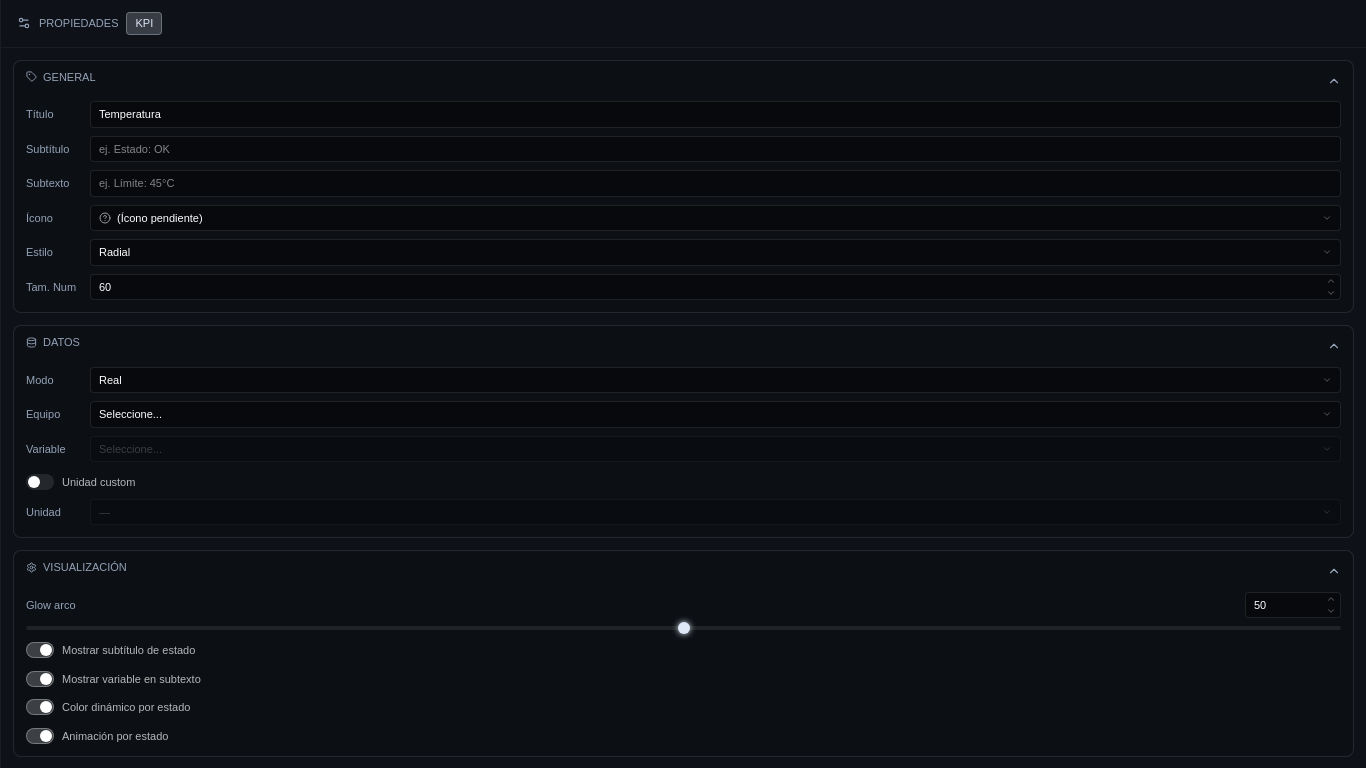
Test: PropertyDock Node-RED binding › shows variables from machine.variables when a machine is selected
The image size is (1366, 768).
Click the button "Seleccione..." next to "Equipo" at (130, 414), box [90,401,1341,428]
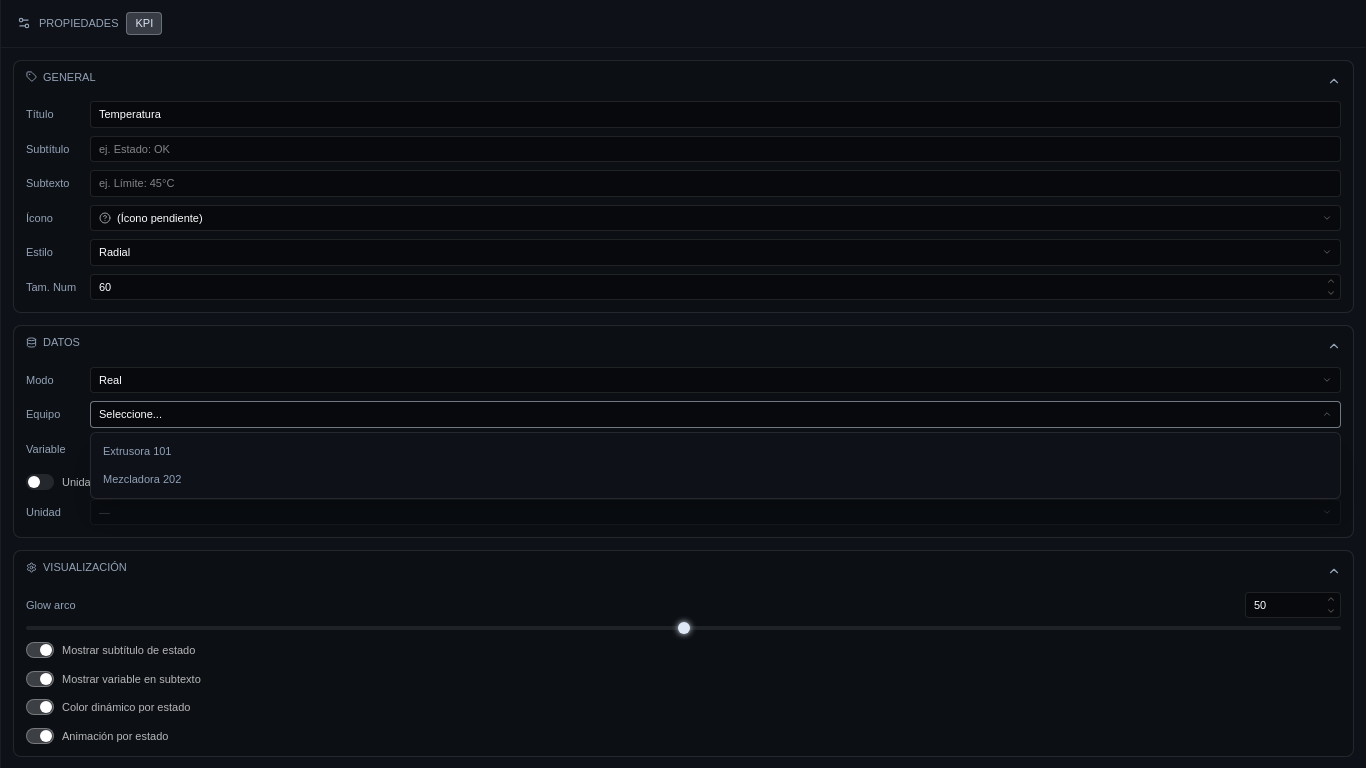
Click the button "Extrusora 101" at (137, 450), box [91,436,1340,465]
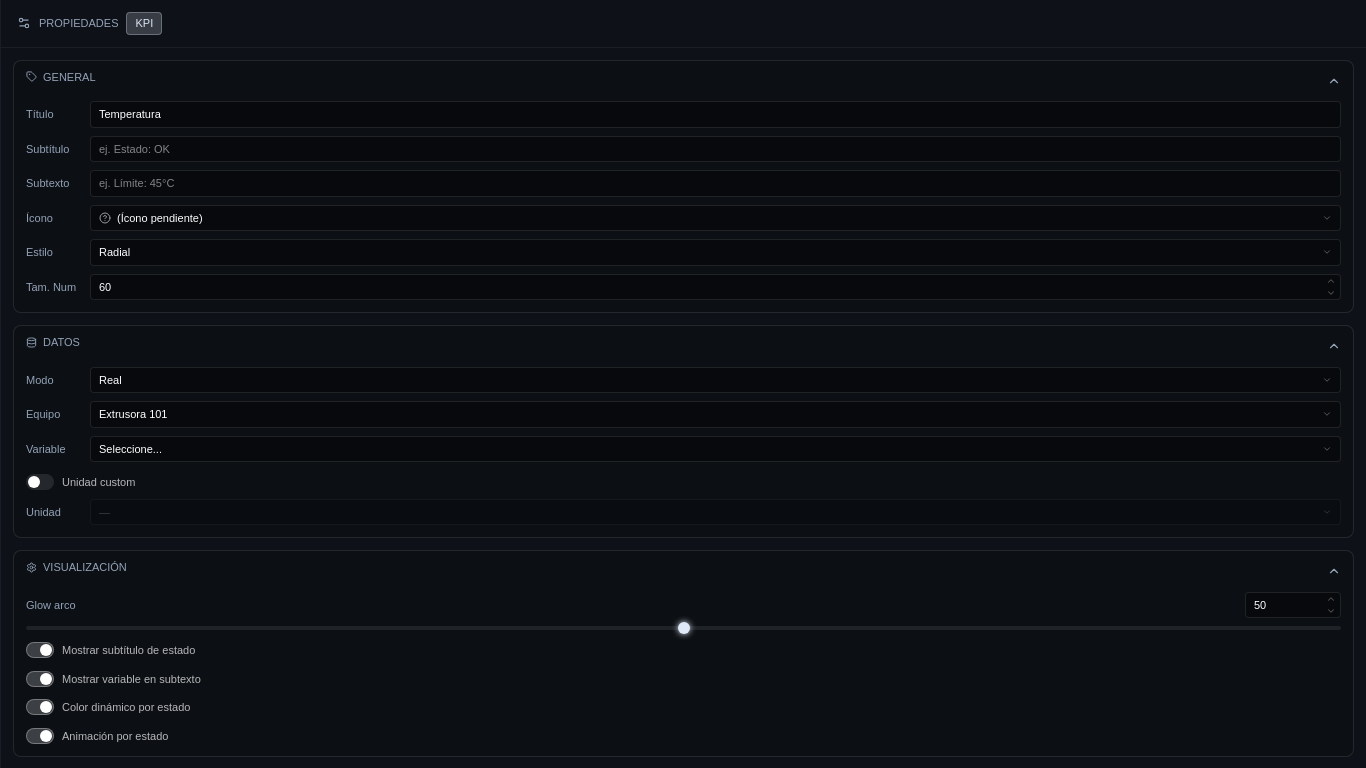
Click the button "Seleccione..." at (130, 448), box [90,436,1341,462]
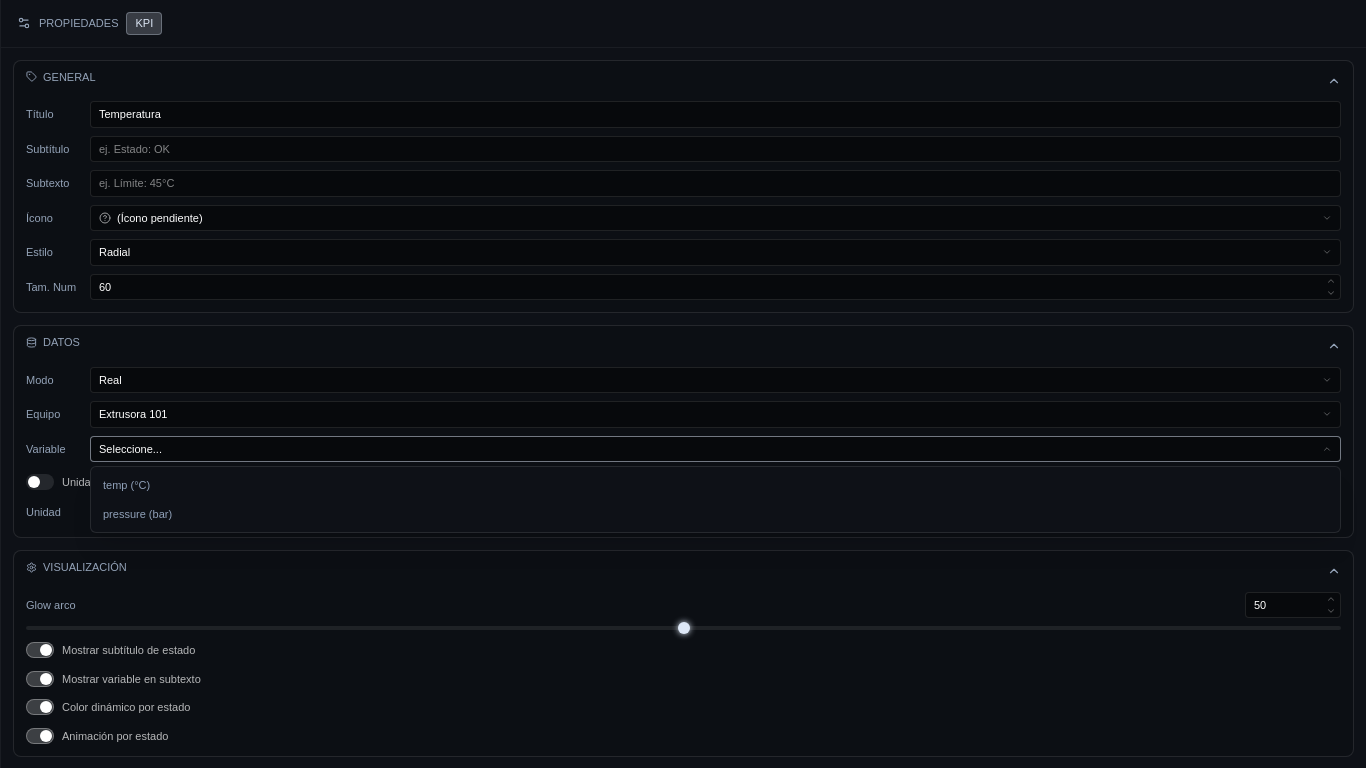
Check: the button "temp (°C)" is shown, box [91,471,1340,500]
Check: the button "pressure (bar)" is shown, box [91,500,1340,528]
